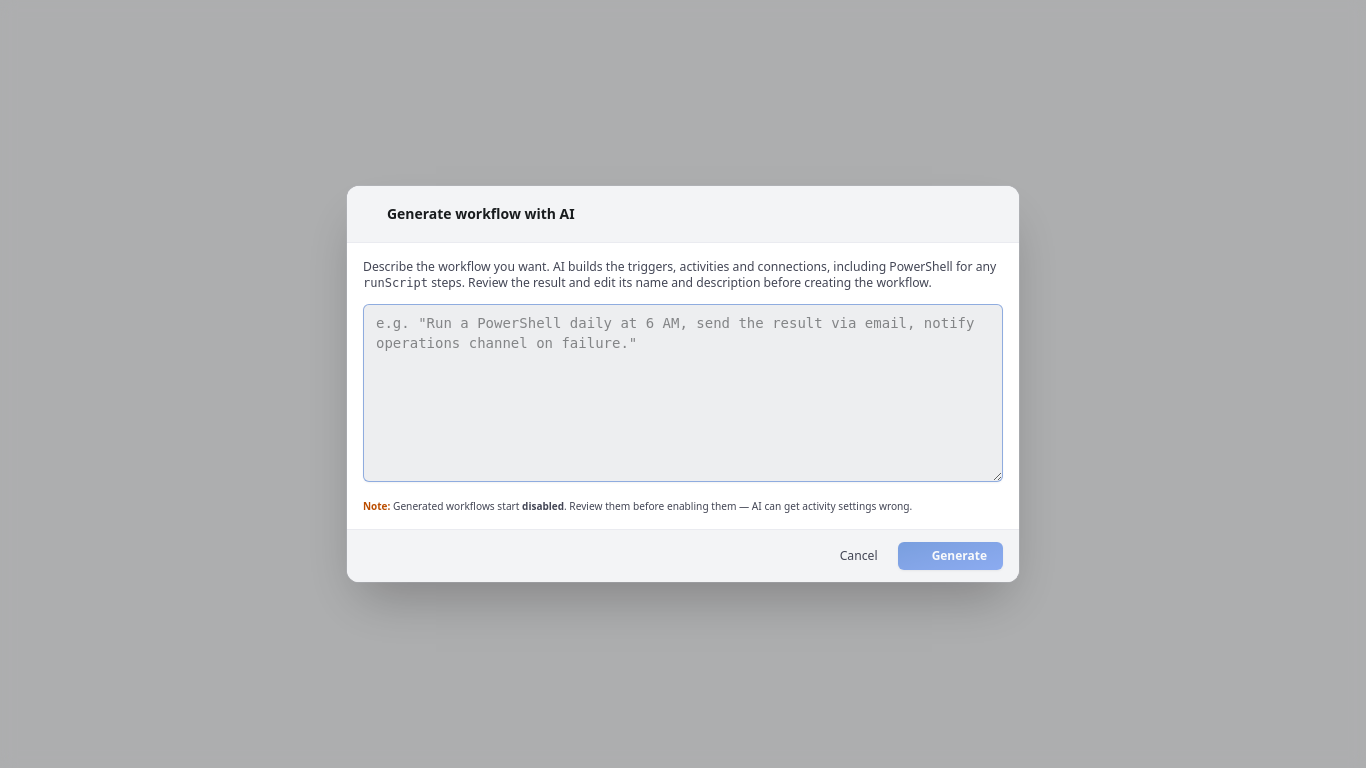
Test: WorkflowGenerationDialog › Generate button enables when prompt has content
The image size is (1366, 768).
Replace the text in the text box named "Workflow prompt" with "do a thing" at (683, 393), box [363,304,1003,482]
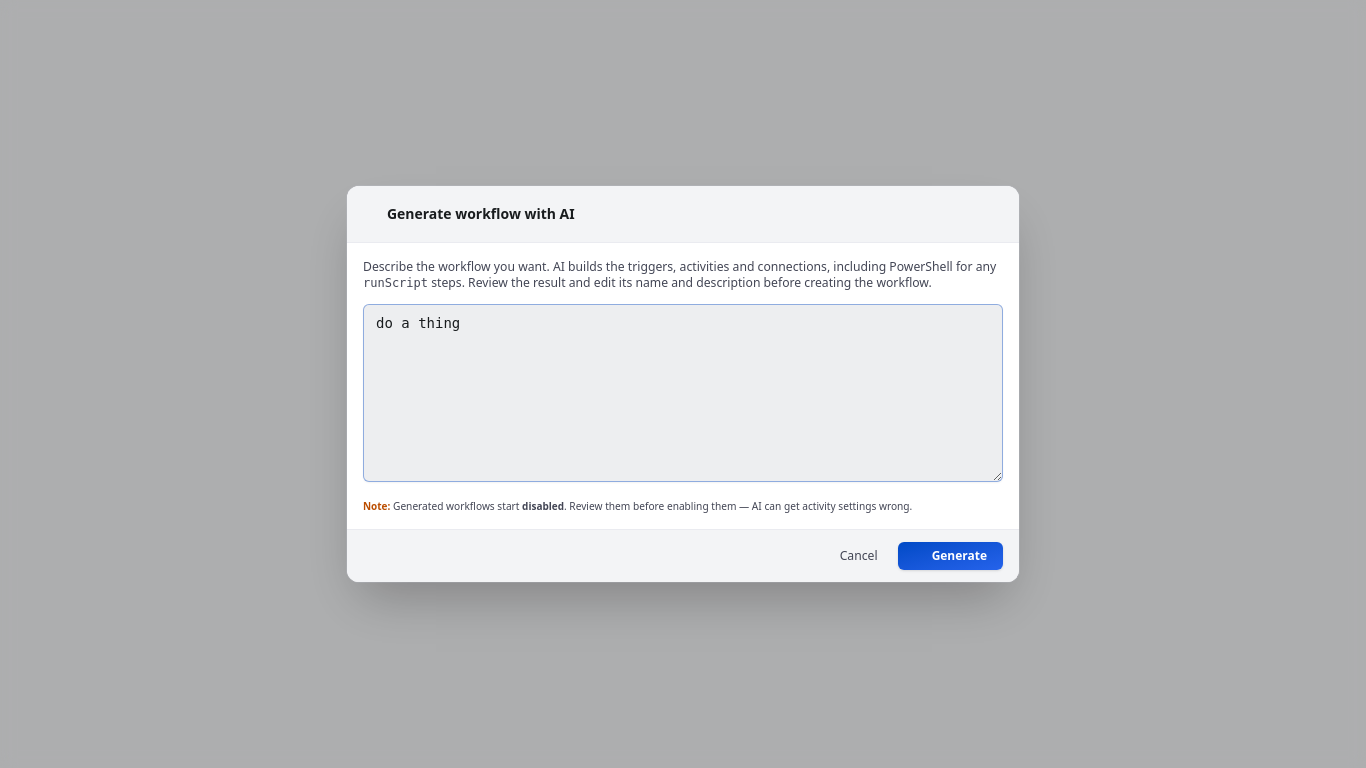
Expected: the button "Generate" is enabled, [898,542,1003,570]
